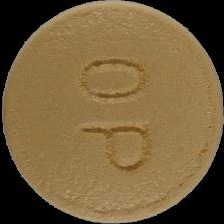0093-5733: (0, 0, 224, 224)
